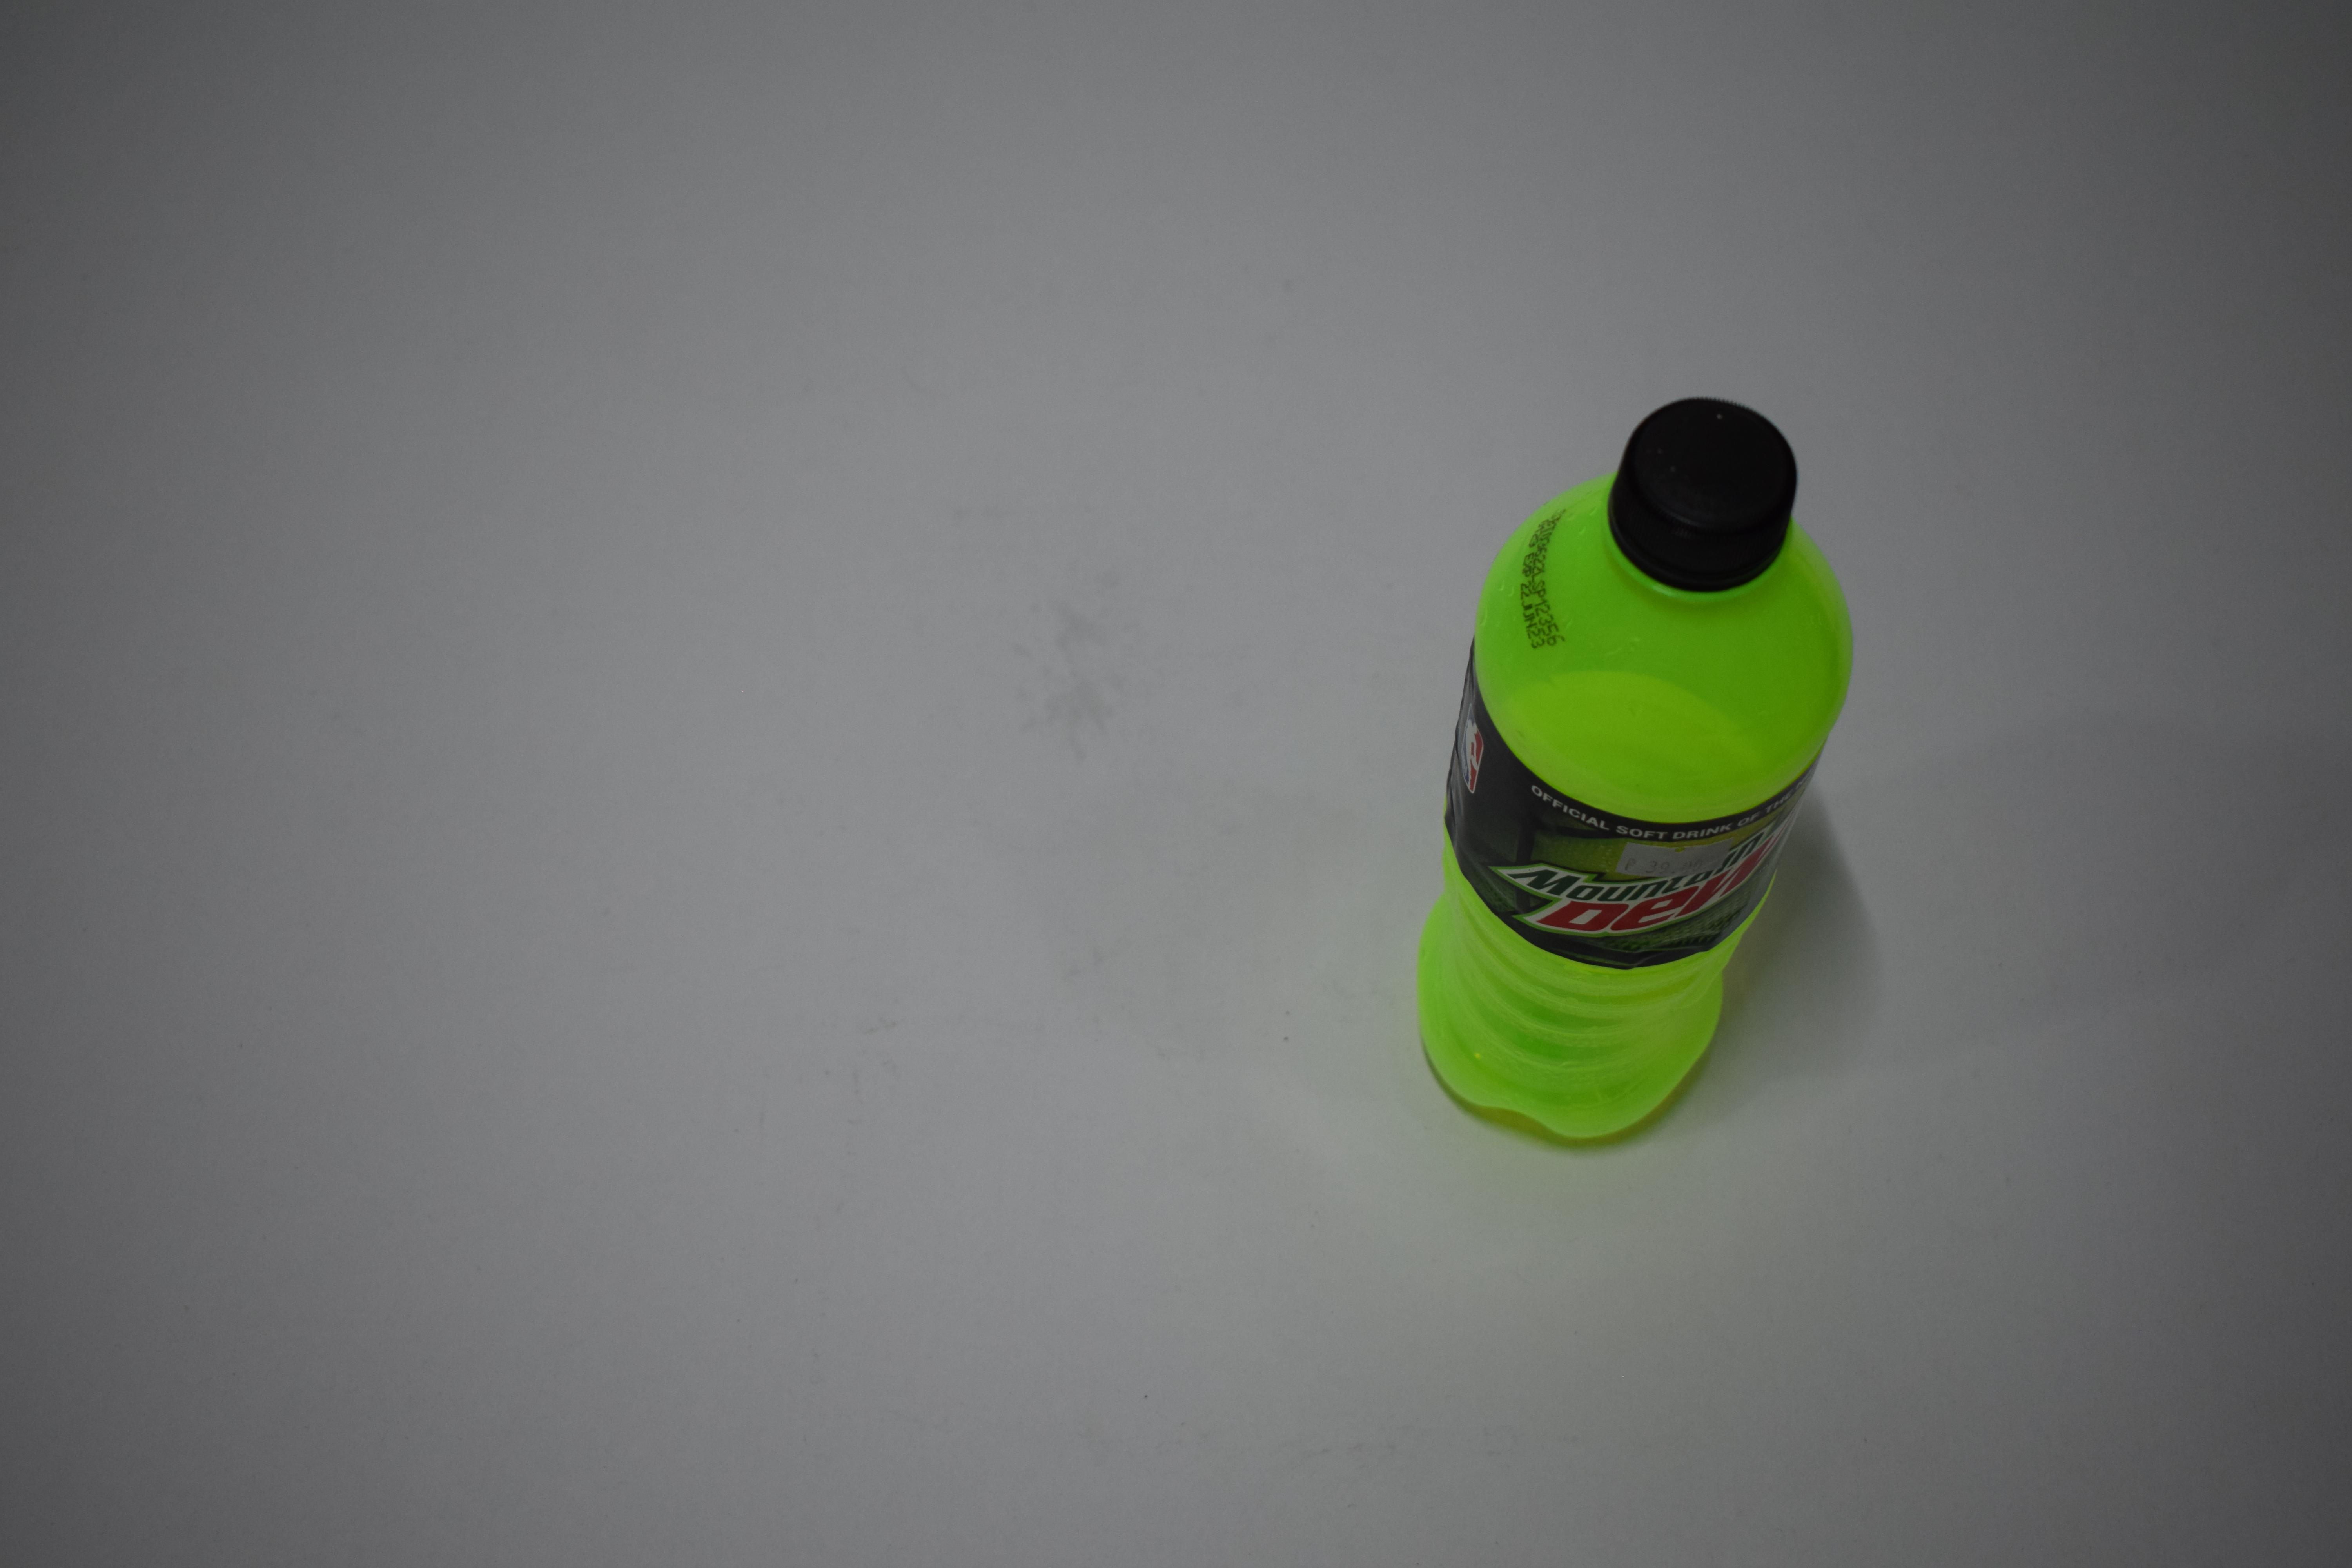bottle: (1402, 385, 1853, 1153)
